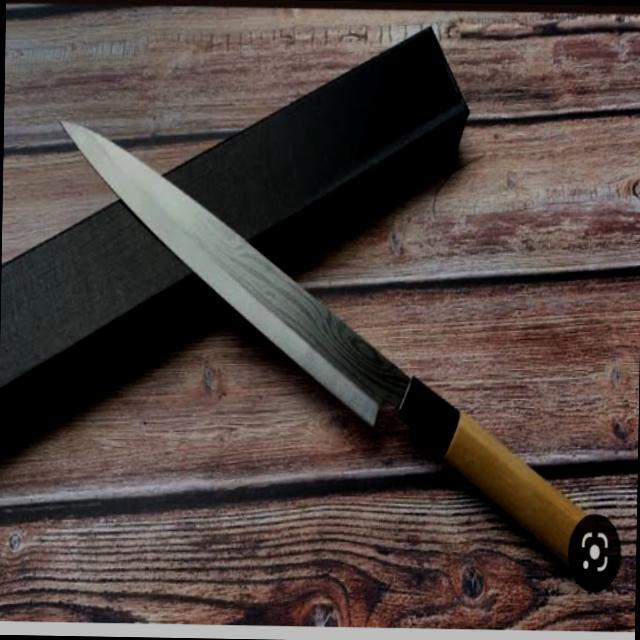knife: (35, 104, 629, 613)
